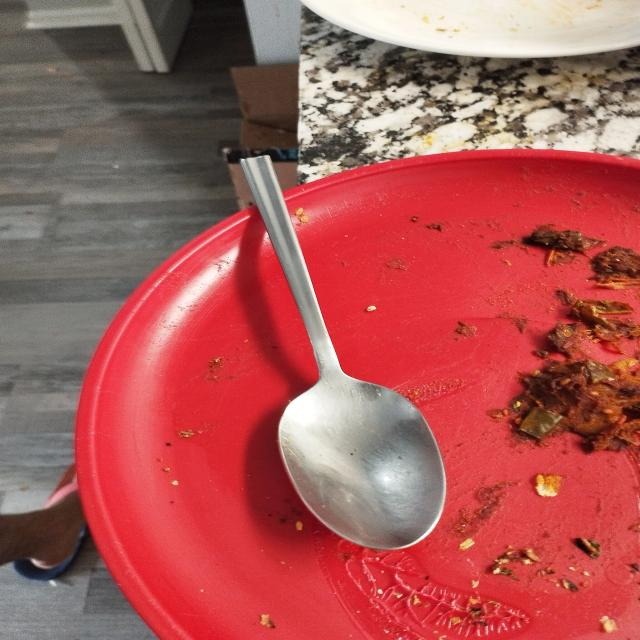Spoon: (215, 129, 476, 562)
